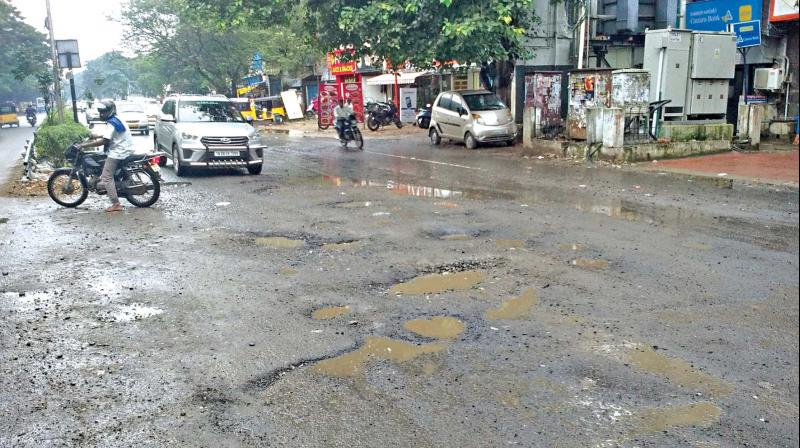pothole: (280, 327, 444, 385), (588, 321, 739, 372), (615, 400, 760, 445), (255, 179, 512, 201), (370, 253, 505, 285)
